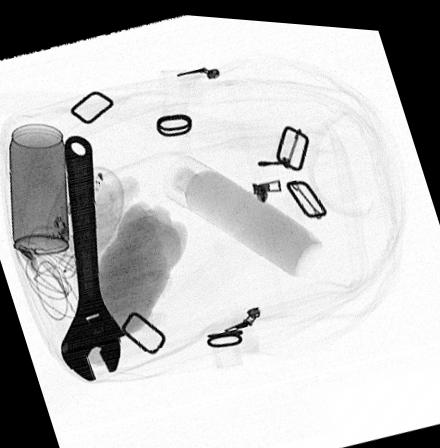Wrench: (59, 132, 129, 383)
